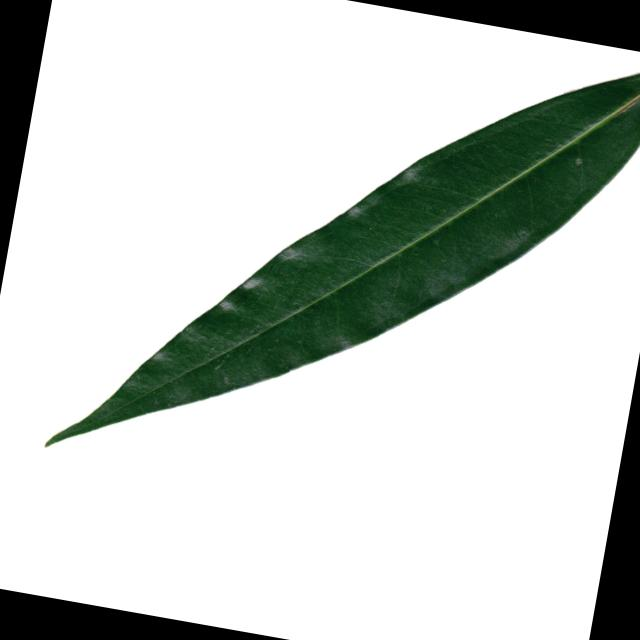Medicinal-Rose Apple: (45, 0, 640, 544)
